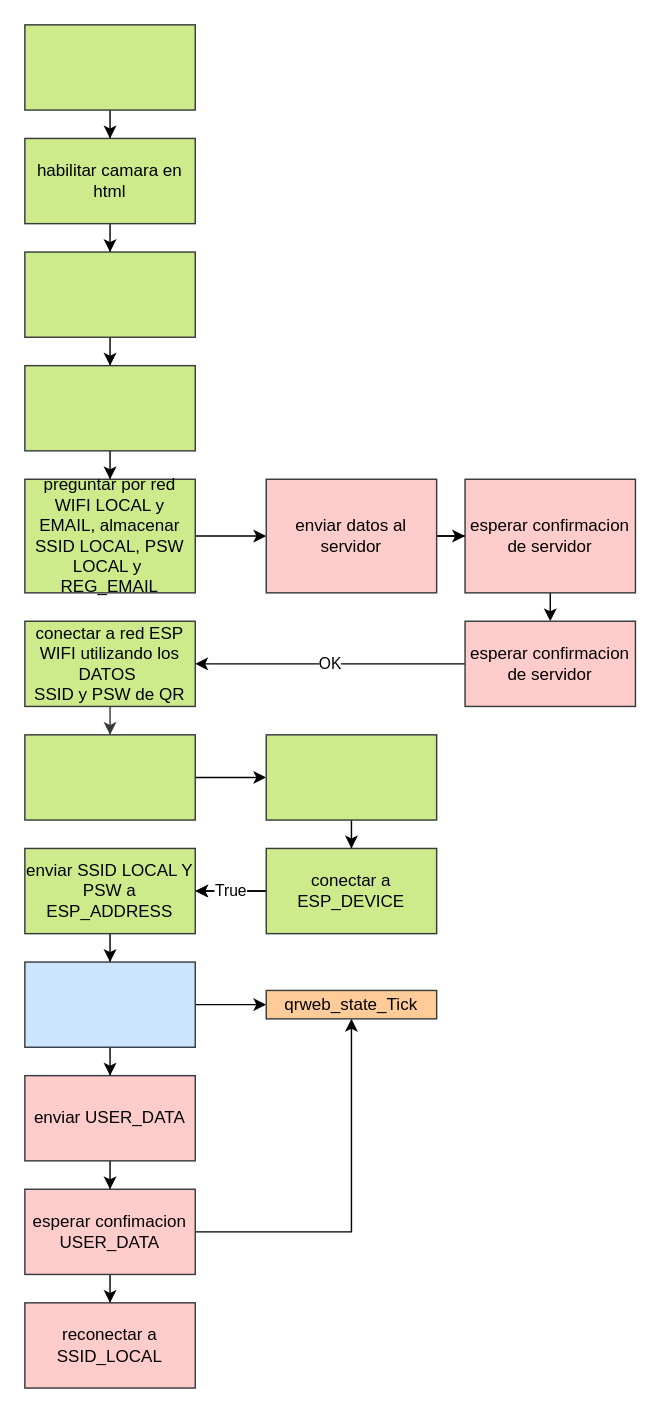
Image size: 660x1413. Some labels were removed from this diagram. The shapes that lost their labels are listed below. From the top down, each one's box as (x1, y1, x2, y2) in pixels, then its label:
(23, 23, 195, 110): añadir
(23, 251, 195, 337): esperar a que lea QR
(23, 364, 195, 451): leer qr y almacenar ssid junto psw
(23, 733, 195, 820): obetener ESP_ADDRESS de ESP WIFI
(265, 733, 437, 820): hablitar continuar
(23, 961, 195, 1047): esperar confirmacion ESP_DATA
